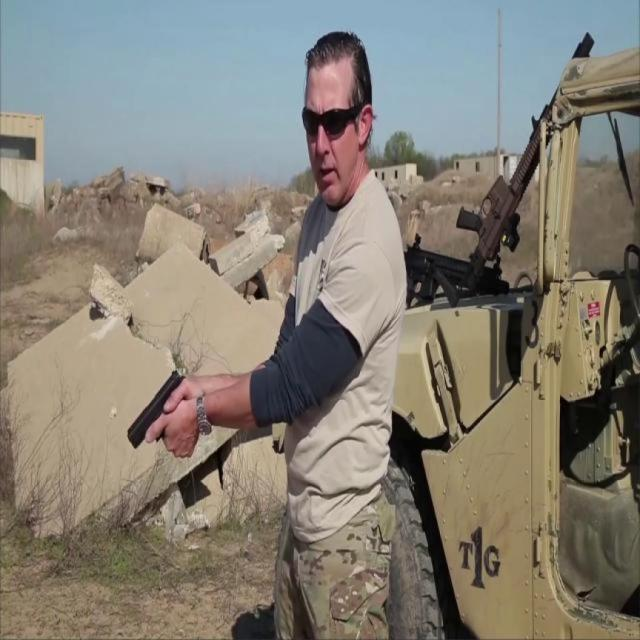pistol: (125, 369, 188, 449)
